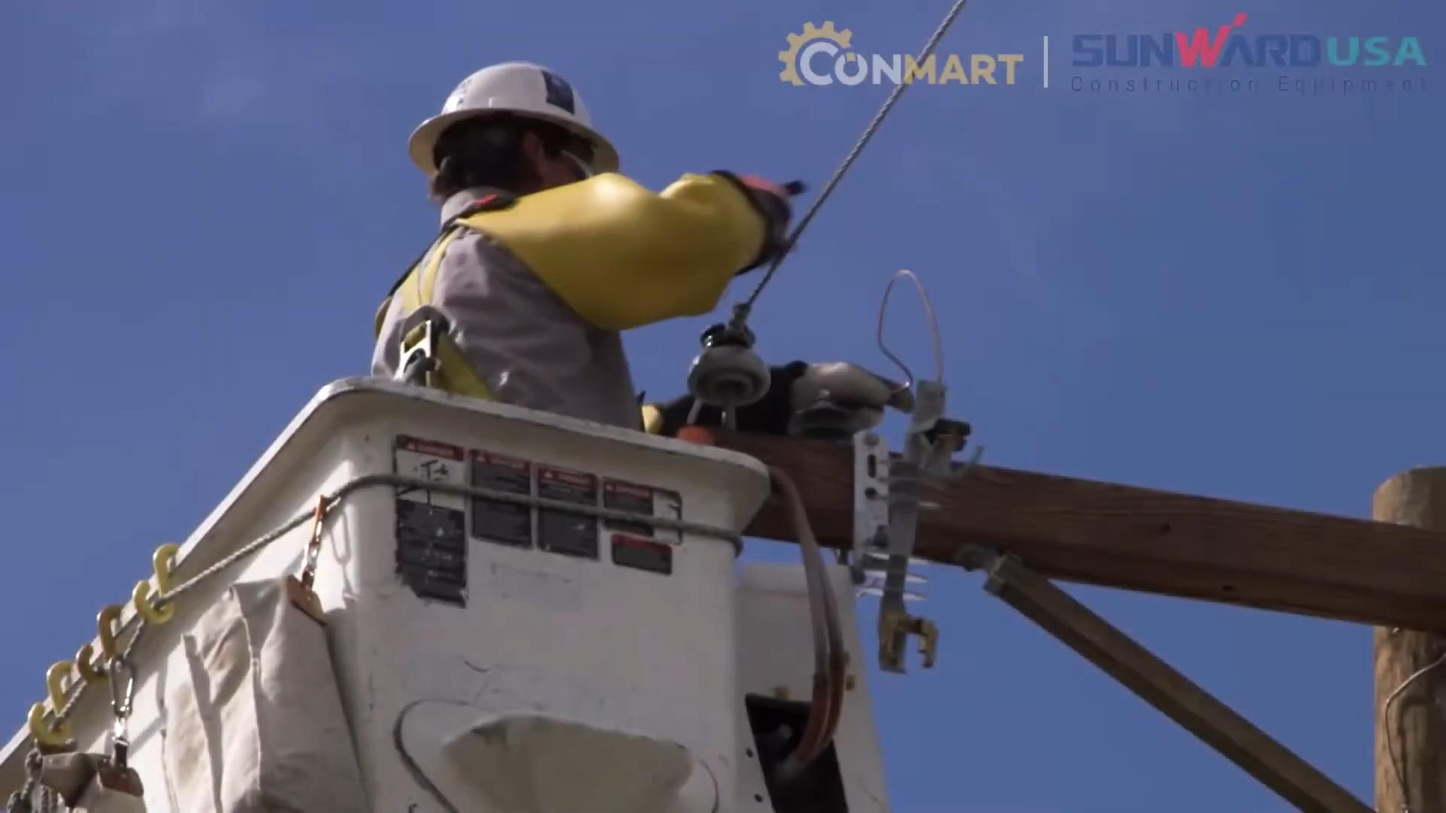Helmet: (404, 59, 610, 162)
Person: (369, 59, 808, 434)
Safety Vest: (405, 217, 648, 416)
